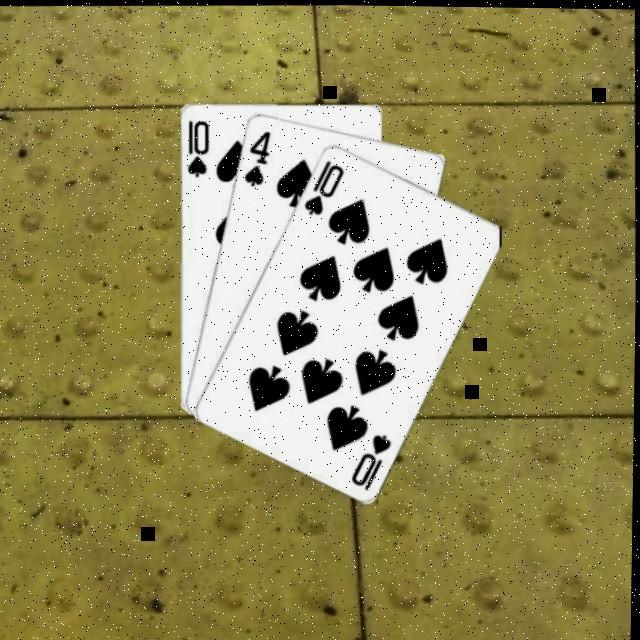10S: (347, 426, 395, 491), (299, 153, 347, 217), (182, 116, 210, 178)
4S: (238, 124, 272, 187)
